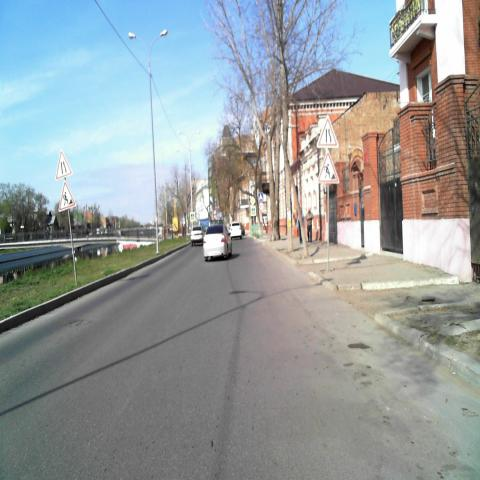1_20_2: (314, 114, 340, 151), (54, 147, 72, 179)
1_25: (316, 150, 340, 185), (56, 182, 76, 212)
2_1: (250, 195, 255, 206)
3_24: (258, 202, 264, 212)
5_19_1: (250, 206, 256, 216), (190, 212, 196, 222)
5_20: (258, 192, 264, 201)
